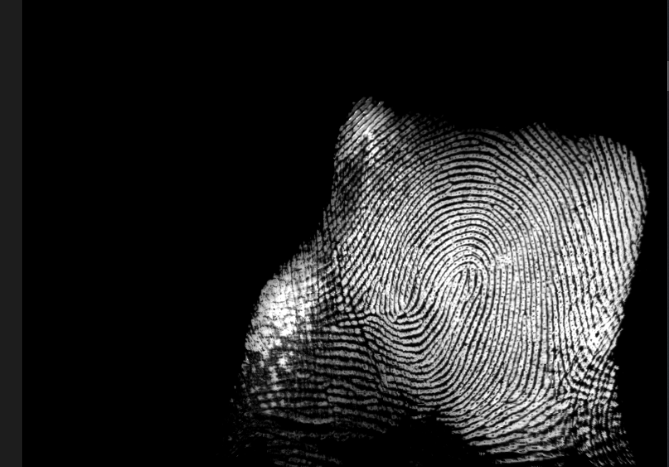deltas: (531, 357, 583, 412), (343, 289, 389, 339)
nucleo: (438, 249, 486, 310)
